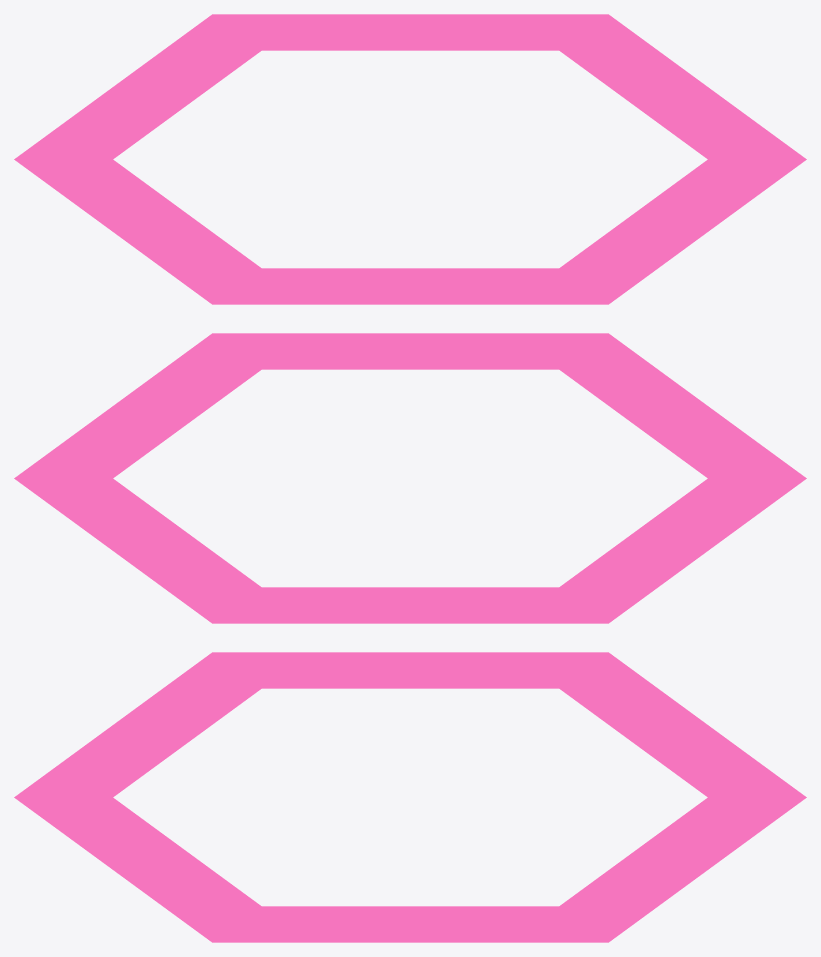
File: cursor_sharp.glb
The picture shows the model from 3 angles, top to bottom: view 1: azimuth 30°, elevation 25°; view 2: azimuth 150°, elevation 25°; view 3: azimuth 270°, elevation 25°; orthographic projection.
Parts seen in each view (by area): view 1: Circle; view 2: Circle; view 3: Circle.
Boxes of the visible parts, x1,y1,x2,y2 form: Circle: (14,14,806,304); Circle: (14,333,806,623); Circle: (14,652,806,942).
Size of the model in its own units: 1.73 by 0 by 2.
